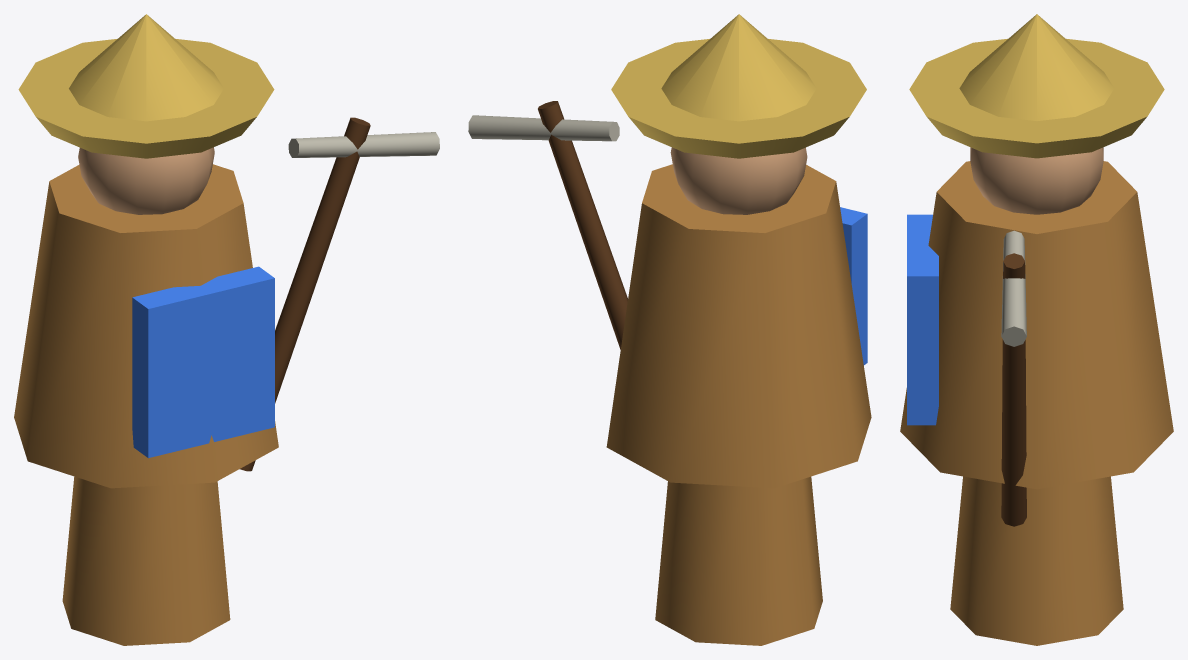
File: worker.glb
3 renders of one model, left to right at view 1: azimuth 30°, elevation 25°; view 2: azimuth 150°, elevation 25°; view 3: azimuth 270°, elevation 25°, orthographic.
Visible parts, largest first — view 1: worker-body, worker-legs, worker-team-apron, worker-straw-hat-brim, worker-straw-hat-crown, worker-head, worker-pickaxe-shaft, worker-pickaxe-head; view 2: worker-body, worker-legs, worker-straw-hat-brim, worker-straw-hat-crown, worker-head, worker-pickaxe-shaft, worker-pickaxe-head, worker-team-apron; view 3: worker-body, worker-legs, worker-straw-hat-brim, worker-straw-hat-crown, worker-head, worker-team-apron, worker-pickaxe-shaft, worker-pickaxe-head.
Boxes of the visible parts, box(x1,y1,x2,y2) form: worker-body: box(14, 164, 278, 488); worker-legs: box(62, 476, 230, 645); worker-team-apron: box(132, 266, 274, 458); worker-straw-hat-brim: box(18, 39, 274, 158); worker-straw-hat-crown: box(69, 14, 223, 121); worker-head: box(78, 147, 214, 214); worker-pickaxe-shaft: box(239, 117, 370, 471); worker-pickaxe-head: box(288, 132, 439, 157); worker-body: box(606, 164, 871, 488); worker-legs: box(655, 476, 822, 645); worker-straw-hat-brim: box(611, 39, 866, 158); worker-straw-hat-crown: box(661, 14, 816, 121); worker-head: box(670, 147, 807, 214); worker-pickaxe-shaft: box(538, 101, 627, 349); worker-pickaxe-head: box(468, 115, 619, 141); worker-team-apron: box(840, 207, 867, 365); worker-body: box(900, 161, 1173, 489); worker-legs: box(950, 476, 1123, 645); worker-straw-hat-brim: box(909, 38, 1164, 158); worker-straw-hat-crown: box(959, 14, 1114, 120); worker-head: box(970, 147, 1103, 214); worker-team-apron: box(907, 214, 938, 425); worker-pickaxe-shaft: box(1001, 253, 1026, 526); worker-pickaxe-head: box(1001, 230, 1026, 346).
Bounding box in the file's own units: 1 × 1.44 × 0.6.
